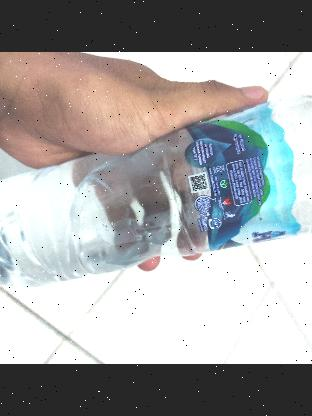Plastic Bottle: (0, 88, 312, 293)
